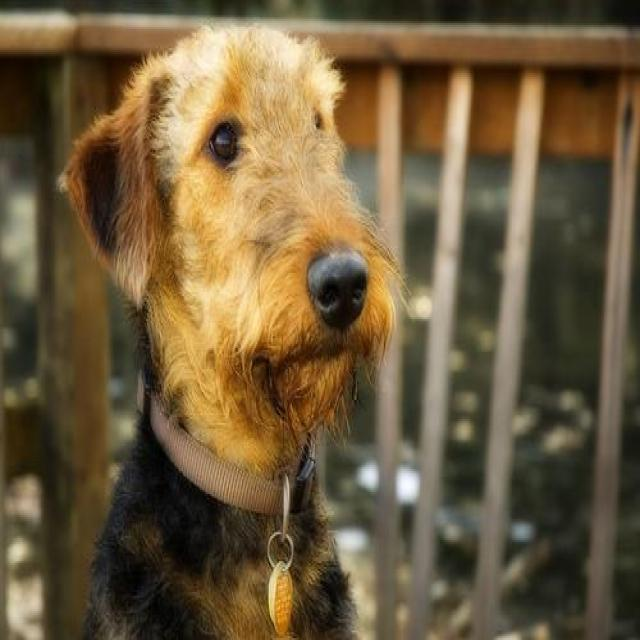airedale: (61, 17, 416, 638)
